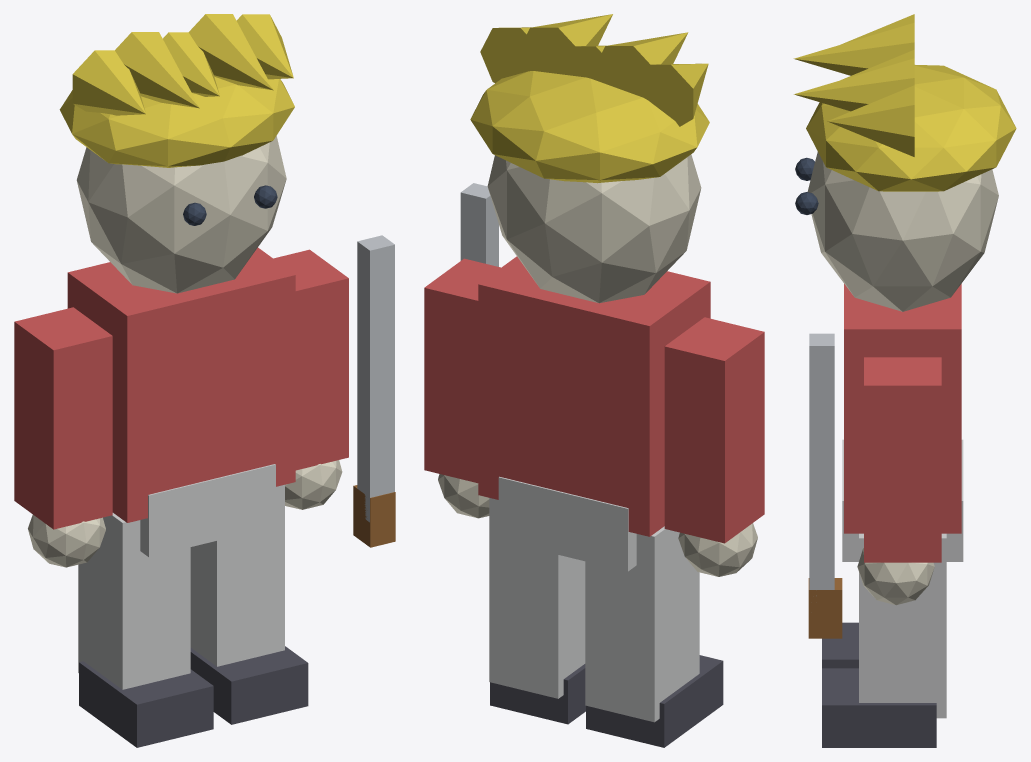
Rendered from cha.glb.
The picture shows the model from 3 angles, left to right: view 1: azimuth 30°, elevation 25°; view 2: azimuth 150°, elevation 25°; view 3: azimuth 270°, elevation 25°; orthographic projection. The views are drawn at different scales.
Visible parts, largest first — view 1: part_000, part_010, part_002, part_004, part_013, part_008, part_006, part_020, part_001, part_005, part_009, part_014 (+7 smaller); view 2: part_000, part_010, part_002, part_013, part_004, part_008, part_006, part_001, part_005, part_017, part_015, part_014 (+6 smaller); view 3: part_010, part_006, part_013, part_000, part_008, part_020, part_009, part_018, part_015, part_017, part_007, part_019 (+3 smaller).
Boxes of the visible parts, x1,y1,x2,y2 form: part_000: (67, 247, 295, 522); part_010: (76, 136, 286, 293); part_002: (14, 307, 112, 529); part_004: (78, 513, 190, 689); part_013: (59, 76, 294, 167); part_008: (190, 484, 284, 666); part_006: (273, 249, 348, 470); part_020: (357, 235, 394, 522); part_001: (140, 464, 275, 557); part_005: (79, 661, 213, 747); part_009: (190, 646, 308, 724); part_014: (72, 50, 145, 115); part_000: (478, 256, 710, 536); part_010: (487, 154, 701, 303); part_002: (664, 317, 764, 543); part_013: (470, 71, 709, 183); part_004: (585, 526, 699, 722); part_008: (489, 498, 585, 698); part_006: (424, 258, 500, 483); part_001: (498, 476, 636, 571); part_005: (586, 655, 723, 747); part_017: (518, 14, 612, 76); part_015: (593, 32, 688, 102); part_014: (630, 63, 708, 126); part_010: (807, 151, 998, 311); part_006: (864, 357, 941, 562); part_013: (806, 65, 1016, 191); part_000: (844, 284, 961, 533); part_008: (859, 533, 946, 718); part_020: (809, 333, 834, 595); part_009: (822, 668, 936, 747); part_018: (827, 85, 914, 156); part_015: (793, 22, 914, 75); part_017: (794, 58, 914, 111); part_007: (857, 548, 934, 605); part_019: (808, 578, 842, 638).
Bounding box in the file's own units: 1.08 × 2.17 × 0.6628.
